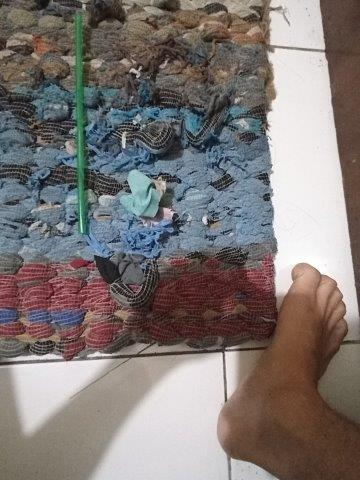sedotan: (74, 15, 88, 235)
